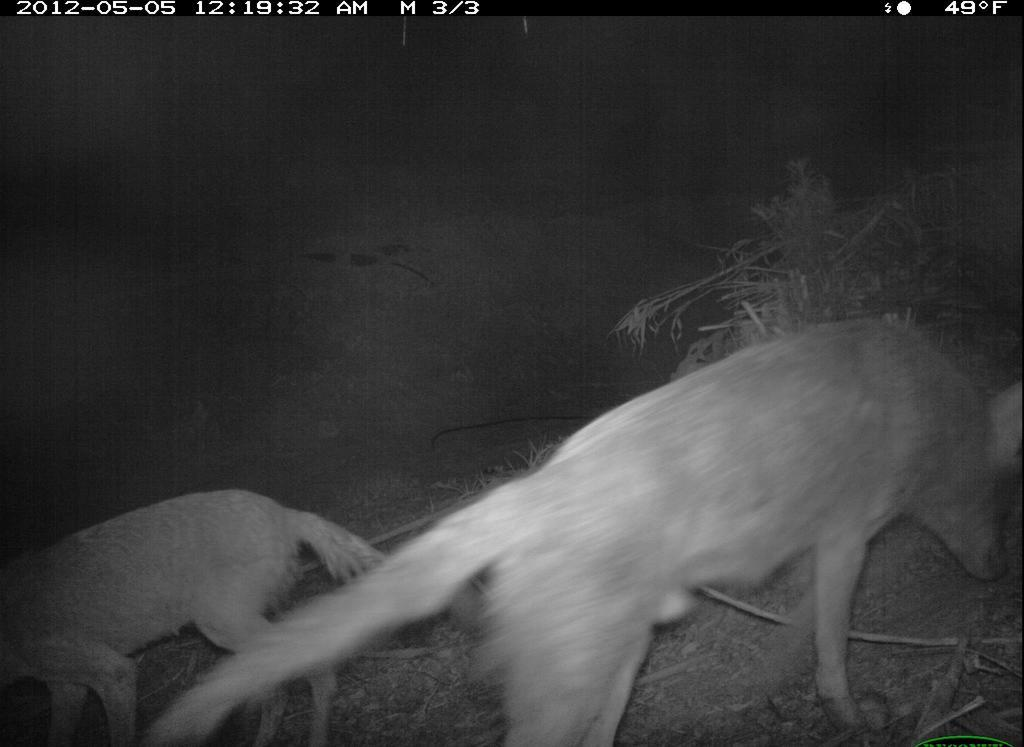coyote: (130, 306, 1019, 747), (1, 482, 388, 747)
